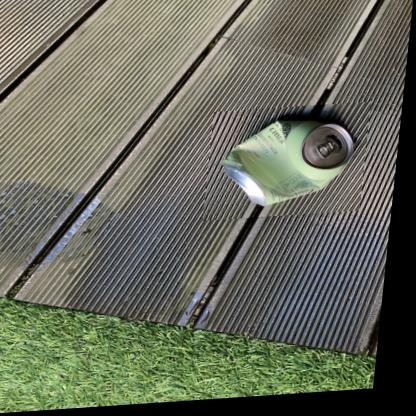trash: (224, 121, 352, 206)
